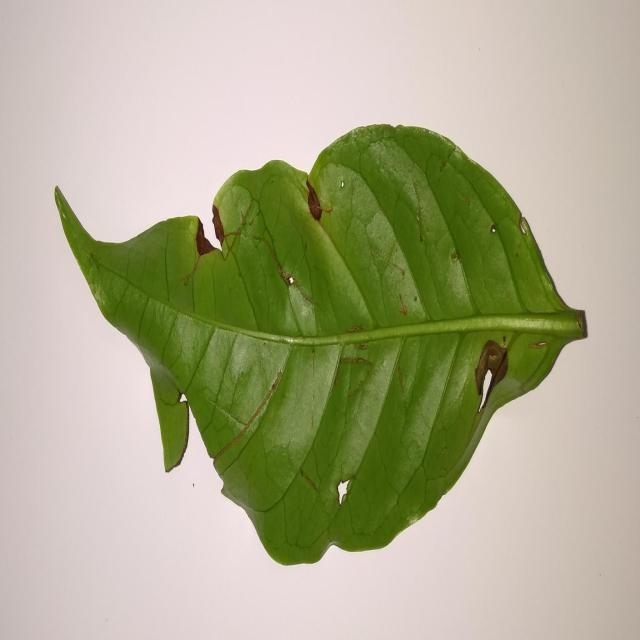Enfermedad-Antracnosis: (53, 124, 588, 568)
